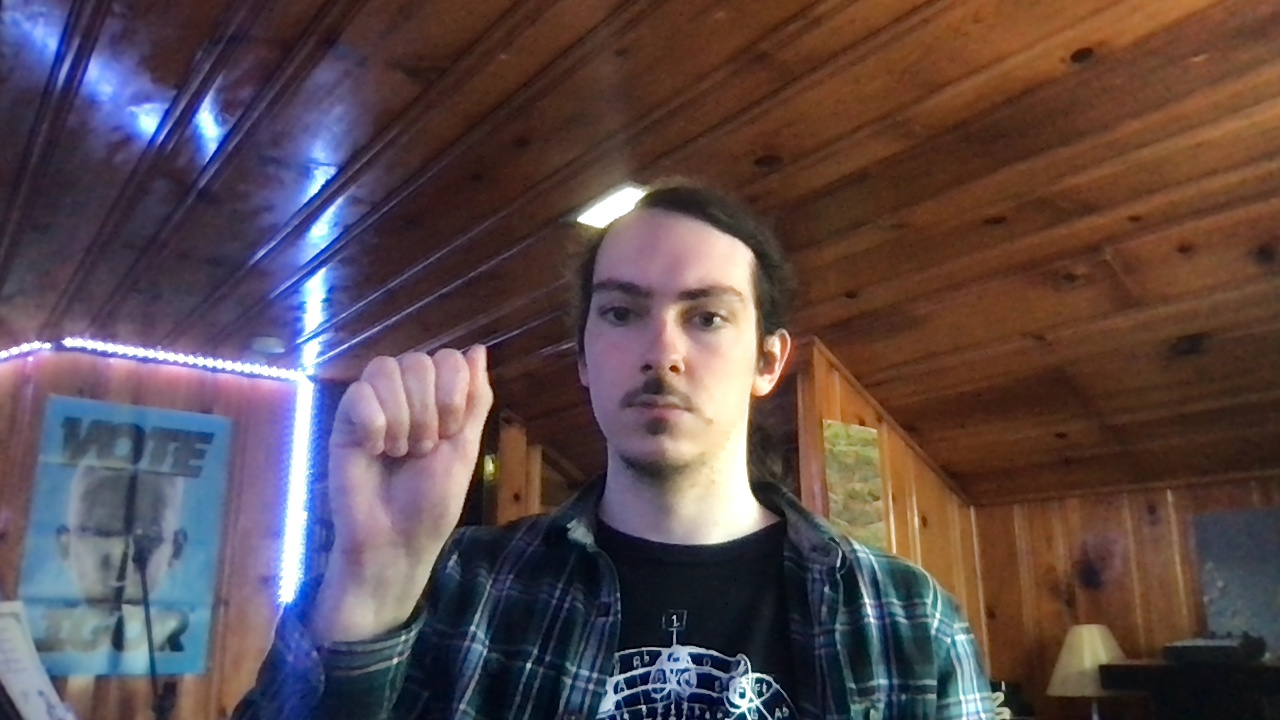a: (323, 341, 500, 544)
